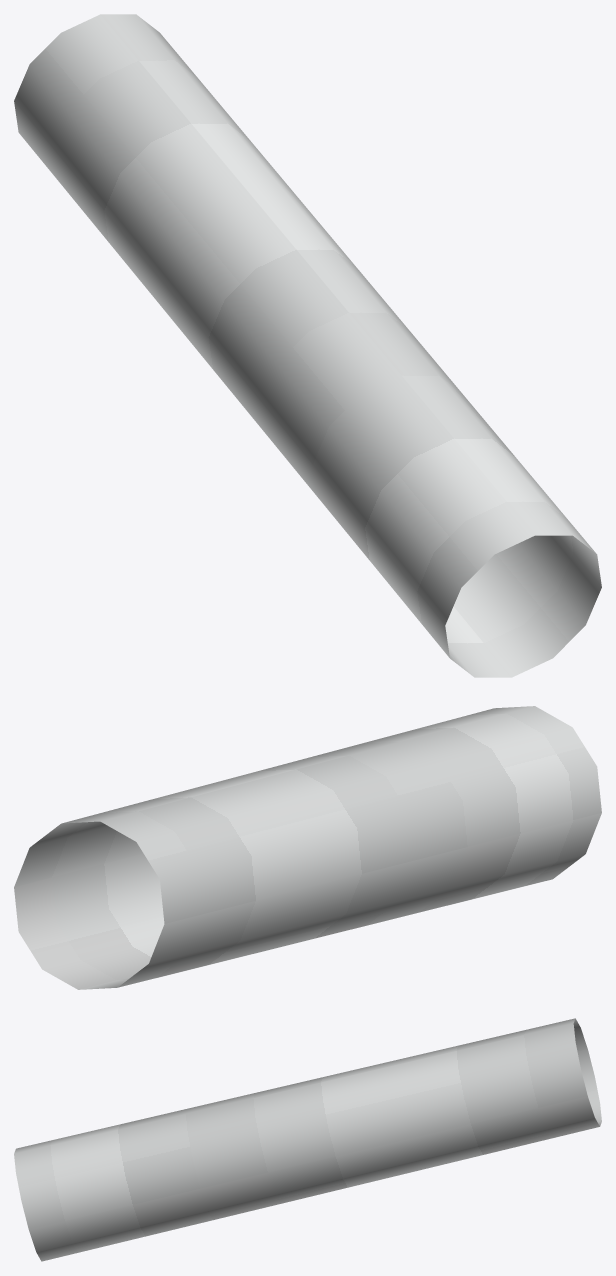
The model's file is luminairearm_caltrans15ftstraight_c3.obj.
The picture shows the model from 3 angles, top to bottom: view 1: azimuth 30°, elevation 25°; view 2: azimuth 150°, elevation 25°; view 3: azimuth 270°, elevation 25°; orthographic projection. The views are drawn at different scales.
Visible parts, largest first — view 1: luminairearm_caltrans15ftstraight_c3; view 2: luminairearm_caltrans15ftstraight_c3; view 3: luminairearm_caltrans15ftstraight_c3.
Part boxes in pixels (bbox=[...]): luminairearm_caltrans15ftstraight_c3: bbox=[14, 14, 601, 677]; luminairearm_caltrans15ftstraight_c3: bbox=[14, 706, 601, 989]; luminairearm_caltrans15ftstraight_c3: bbox=[14, 1018, 601, 1261].
Bounding box in the file's own units: 0.2083 × 0.4592 × 1.05.
